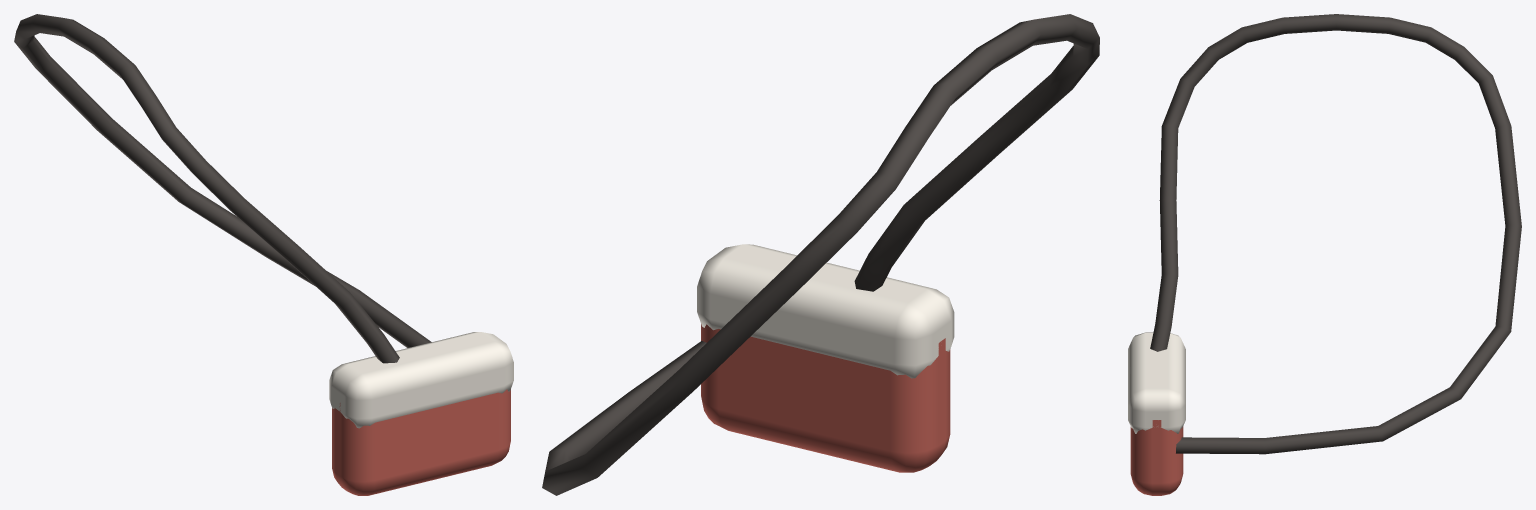
The model's file is crossbody_boston_bag.glb.
The picture shows the model from 3 angles, left to right: view 1: azimuth 30°, elevation 25°; view 2: azimuth 150°, elevation 25°; view 3: azimuth 270°, elevation 25°; orthographic projection. The views are drawn at different scales.
Visible parts, largest first — view 1: crossbody_boston_bag_Body; view 2: crossbody_boston_bag_Body; view 3: crossbody_boston_bag_Body.
Boxes of the visible parts, <box> form: crossbody_boston_bag_Body: <box>14,14,513,495</box>; crossbody_boston_bag_Body: <box>542,14,1099,495</box>; crossbody_boston_bag_Body: <box>1128,14,1521,495</box>.
Bounding box in the file's own units: 0.3581 × 0.4541 × 0.4496.
